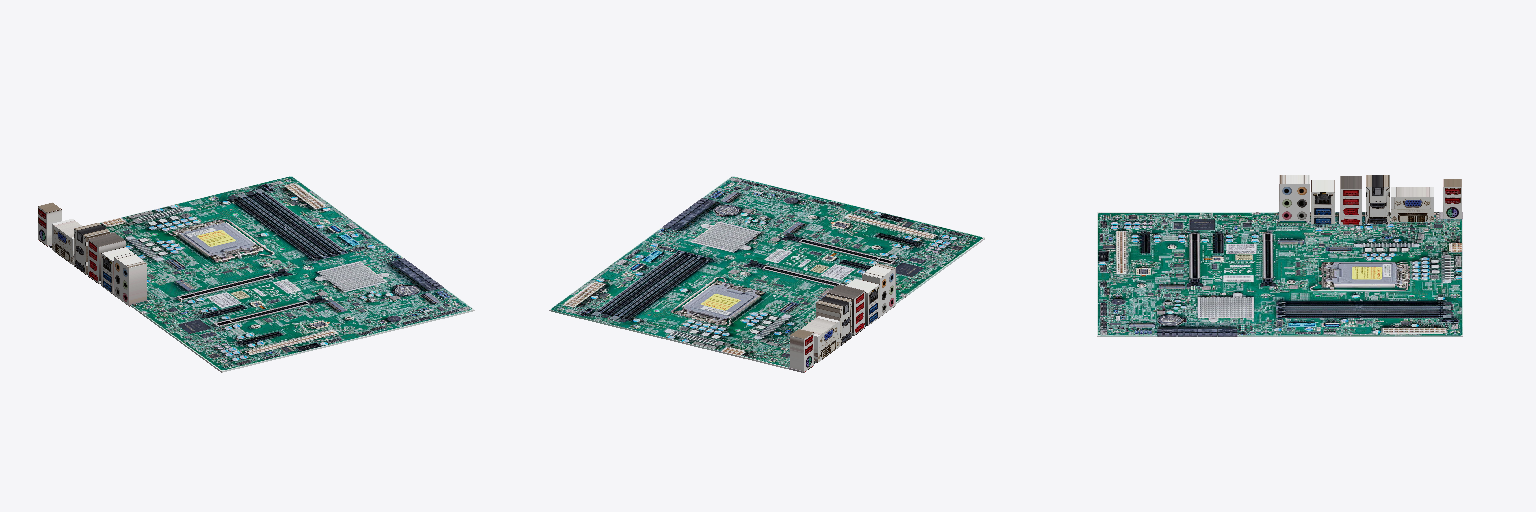
3 views of the same model, side by side, from view 1: azimuth 30°, elevation 25°; view 2: azimuth 150°, elevation 25°; view 3: azimuth 270°, elevation 25° (orthographic).
Visible parts, largest first — view 1: ProtoMB_Plane; view 2: ProtoMB_Plane; view 3: ProtoMB_Plane.
Part boxes in pixels (x1,y1,x2,y2): ProtoMB_Plane: (38,176,474,372); ProtoMB_Plane: (549,176,984,372); ProtoMB_Plane: (1097,175,1462,336).
Size of the model in its own units: 7.17 by 1.04 by 8.93.
2 materials, 2 textured.